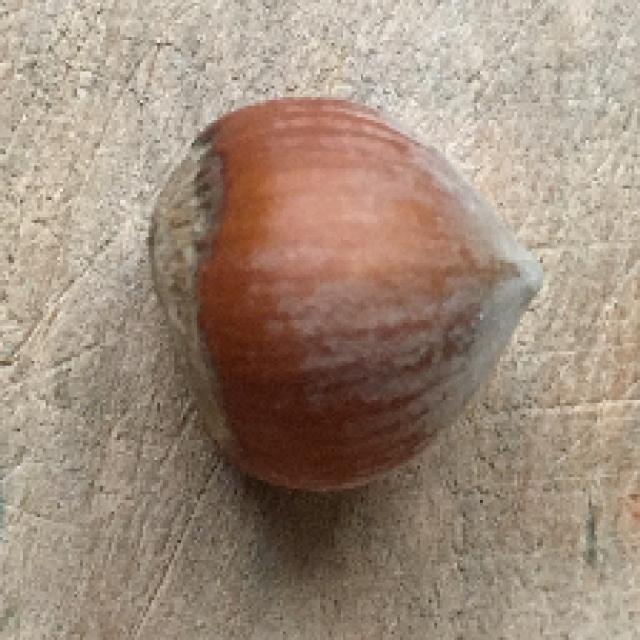qualityHazelnut: (140, 84, 546, 508)
